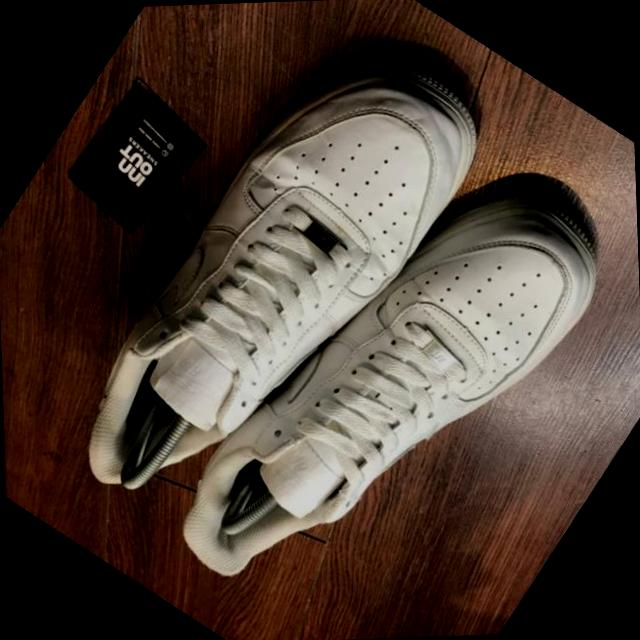nike_fake_airforce: (18, 0, 517, 571), (138, 106, 640, 640)
